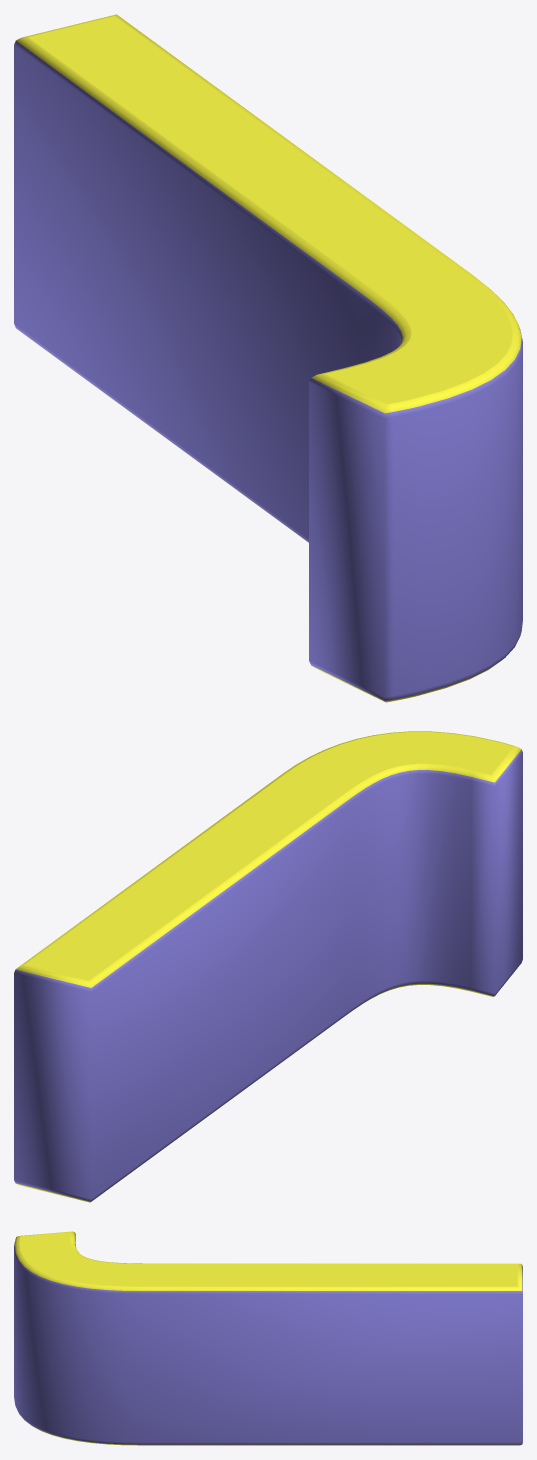
Rendered from letter_J.fbx.
The picture shows the model from 3 angles, top to bottom: view 1: azimuth 30°, elevation 25°; view 2: azimuth 150°, elevation 25°; view 3: azimuth 270°, elevation 25°; orthographic projection. The views are drawn at different scales.
Visible parts, largest first — view 1: Letter_J; view 2: Letter_J; view 3: Letter_J.
Boxes of the visible parts, x1,y1,x2,y2 form: Letter_J: (14,14,522,702); Letter_J: (14,731,522,1202); Letter_J: (14,1231,522,1445).
Bounding box in the file's own units: 25.82 × 32 × 93.2.
